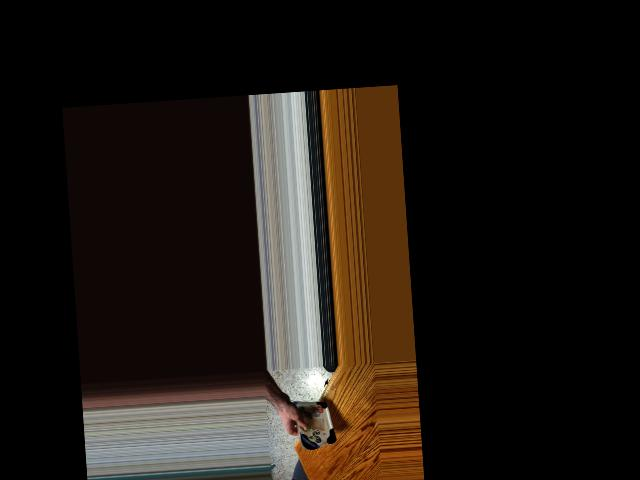cheese: (289, 397, 337, 452)
